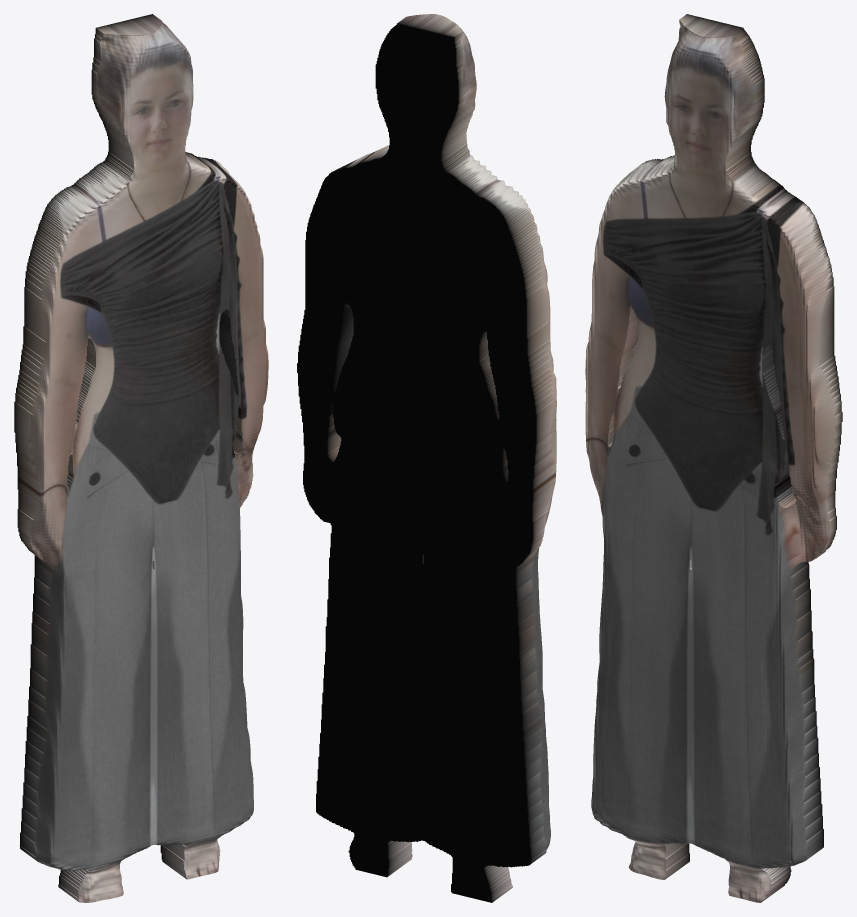
File: avatar_20260411_110350.glb
3 renders of one model, left to right at view 1: azimuth 30°, elevation 25°; view 2: azimuth 150°, elevation 25°; view 3: azimuth 330°, elevation 25°, orthographic.
Parts seen in each view (by area): view 1: world; view 2: world; view 3: world.
Boxes of the visible parts, box(x1,y1,x2,y2) form: world: box(14, 14, 268, 902); world: box(297, 14, 556, 902); world: box(585, 14, 842, 902).
Size of the model in its own units: 0.9791 by 3.35 by 0.1968.
